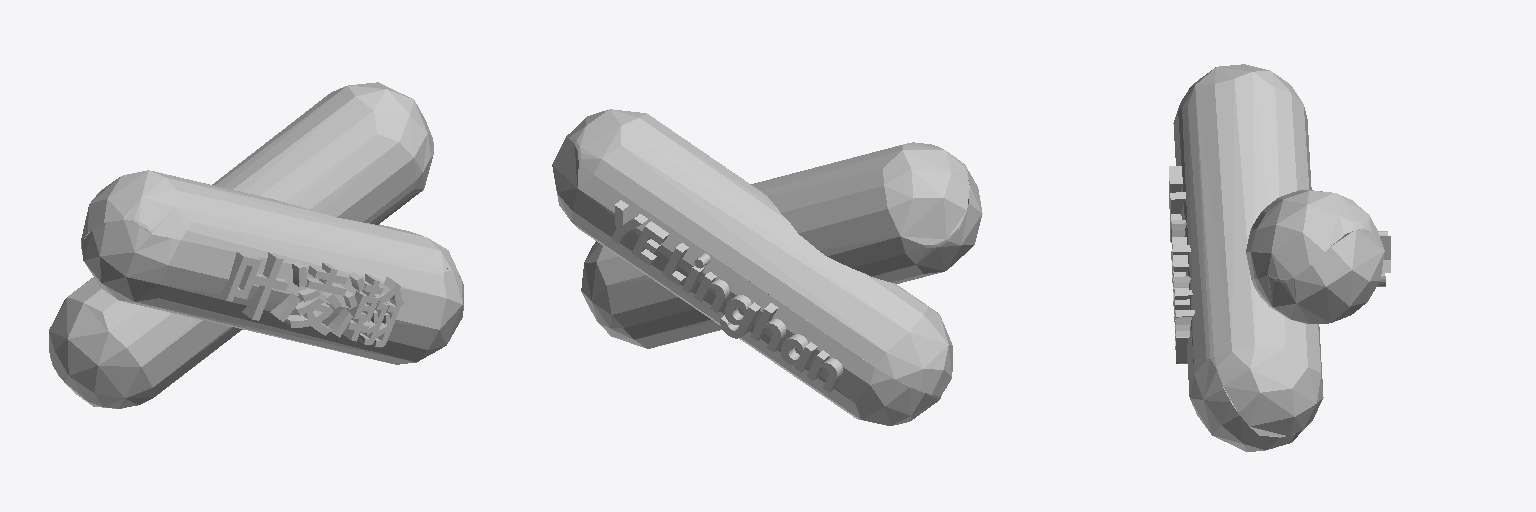
The model's file is YeLinghan.obj.
3 renders of one model, left to right at view 1: azimuth 30°, elevation 25°; view 2: azimuth 150°, elevation 25°; view 3: azimuth 270°, elevation 25°, orthographic.
Parts seen in each view (by area): view 1: root_3, root_2, node_id854; view 2: root_2, root_3, node_id865; view 3: root_3, root_2, node_id854.
Part boxes in pixels (left/top/right/bottom): root_3: left=81, top=170, right=463, bottom=364; root_2: left=49, top=82, right=433, bottom=408; node_id854: left=219, top=252, right=404, bottom=347; root_2: left=552, top=109, right=952, bottom=425; root_3: left=581, top=142, right=982, bottom=348; node_id865: left=611, top=200, right=842, bottom=392; root_3: left=1173, top=64, right=1323, bottom=451; root_2: left=1246, top=190, right=1384, bottom=323; node_id854: left=1169, top=166, right=1194, bottom=363.
Size of the model in its own units: 0.289 by 0.1836 by 0.1476.